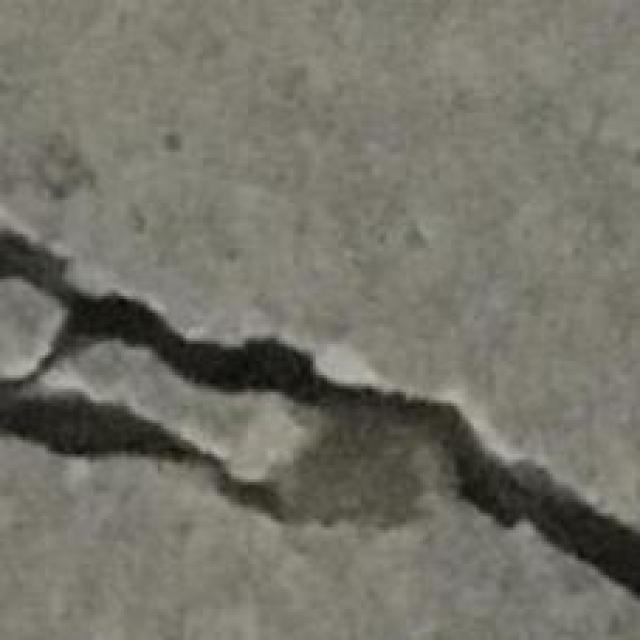Diagonal: (430, 393, 639, 640)
Turtle-shell patterned: (1, 215, 423, 538)
